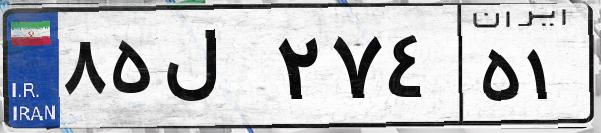1: (525, 38, 570, 115)
2: (270, 28, 330, 110)
4: (385, 28, 445, 110)
5: (475, 38, 525, 113), (110, 28, 158, 98)
7: (330, 28, 385, 110)
8: (57, 26, 110, 100)
ل: (158, 20, 270, 120)
